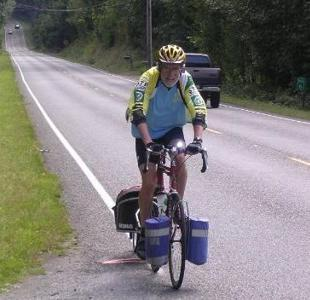person: (125, 44, 207, 257)
